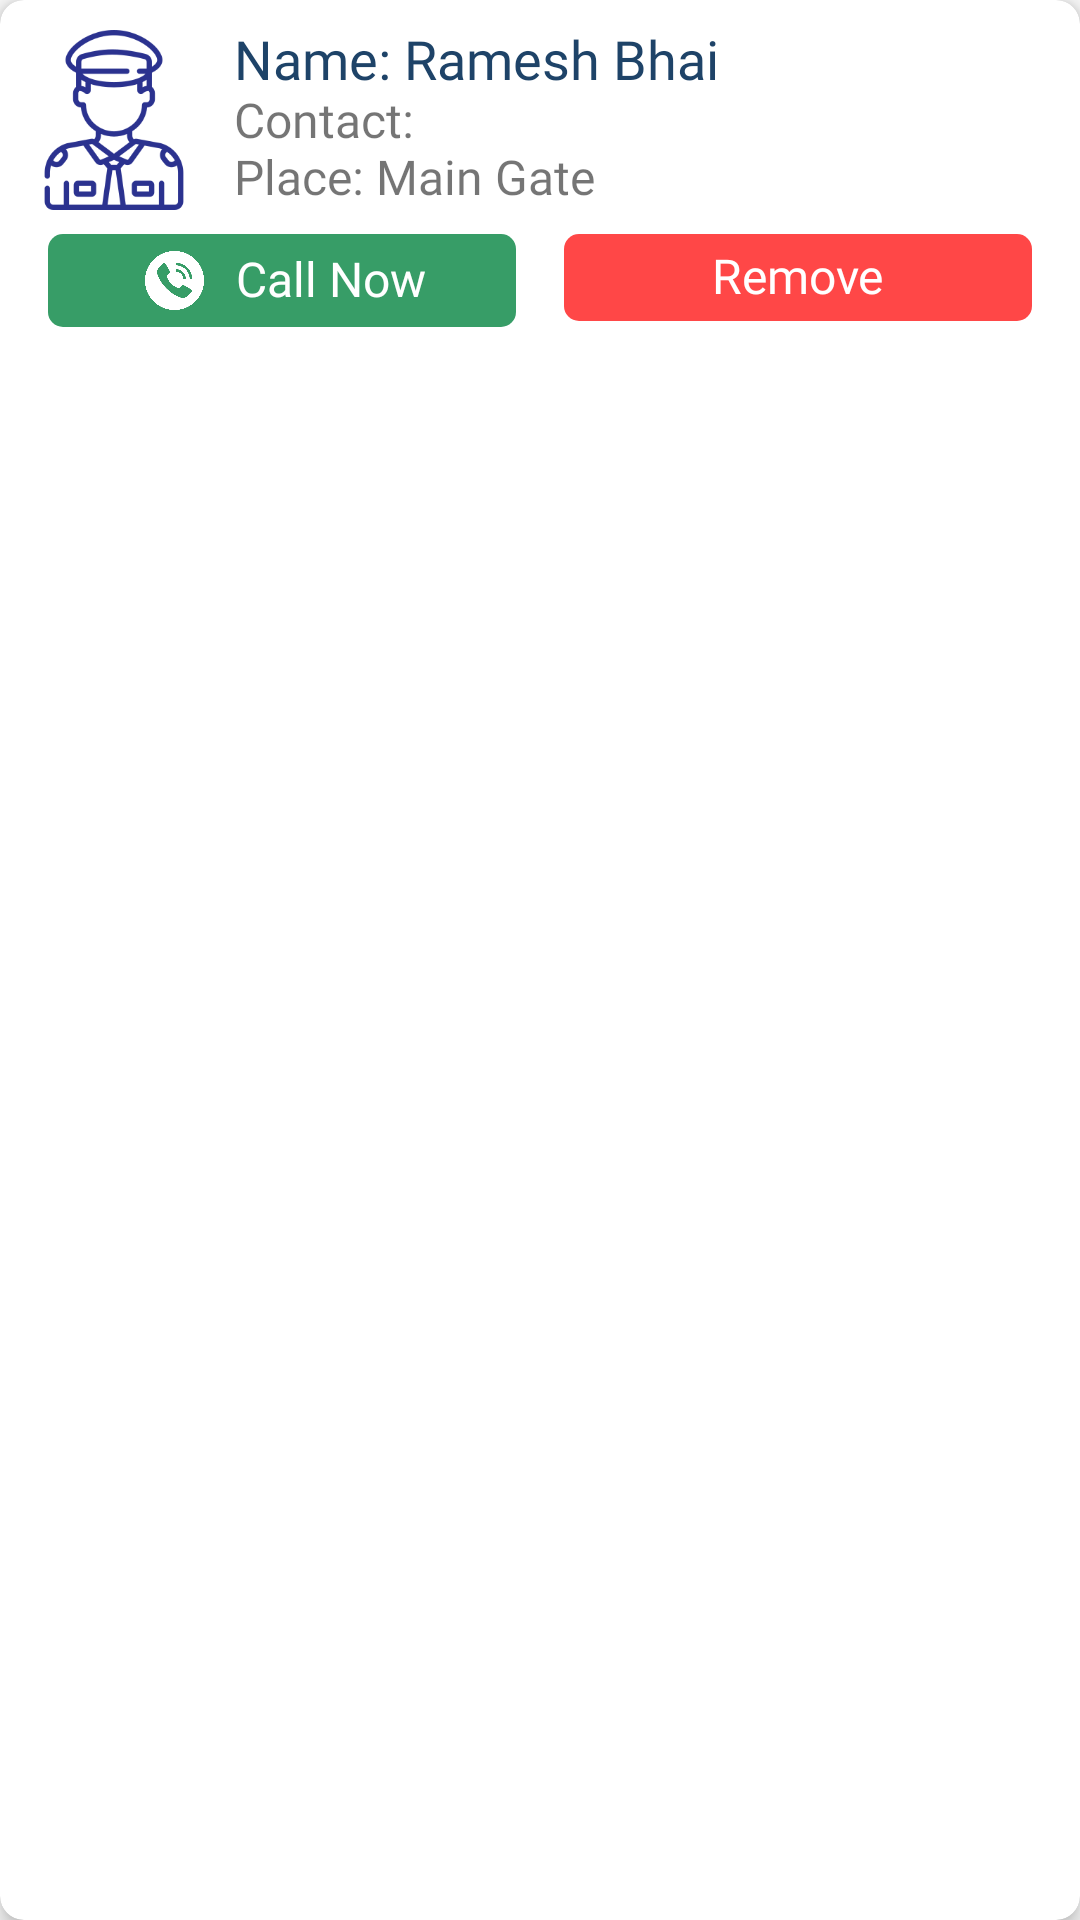

Named icons in this screenshot (1080w x 1920h) and their bounding boxes, box(x1, y1, x2, y2):
Guard Icon: box(44, 30, 184, 210)
telephone call: box(145, 251, 204, 310)
